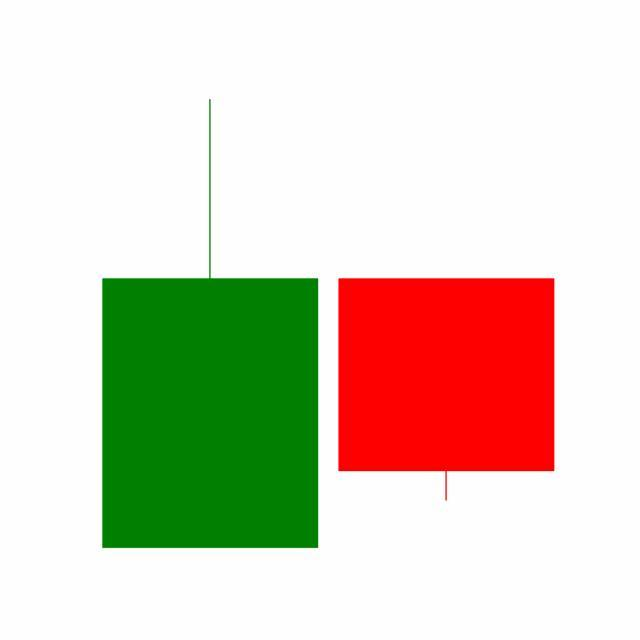Marubozu: (328, 277, 566, 504)
